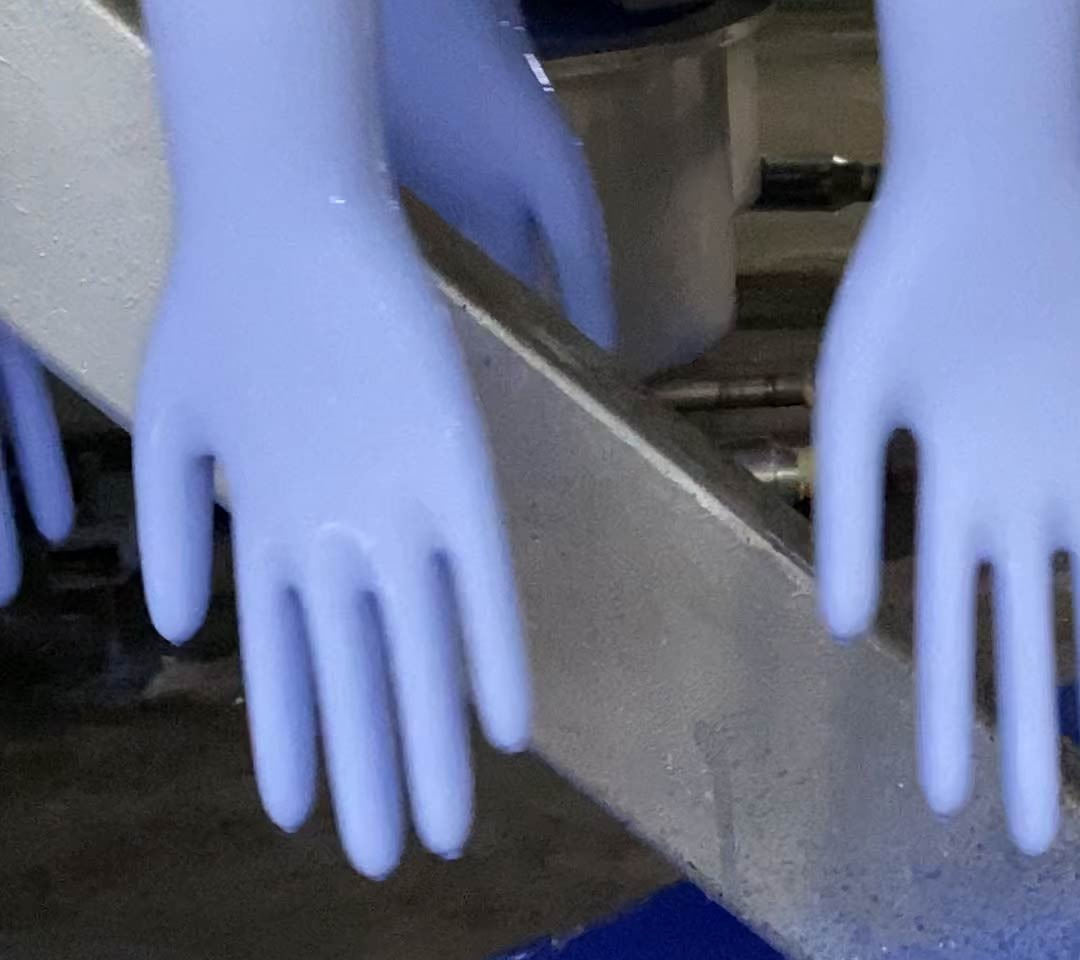glove: (131, 1, 533, 878), (810, 2, 1080, 862)
